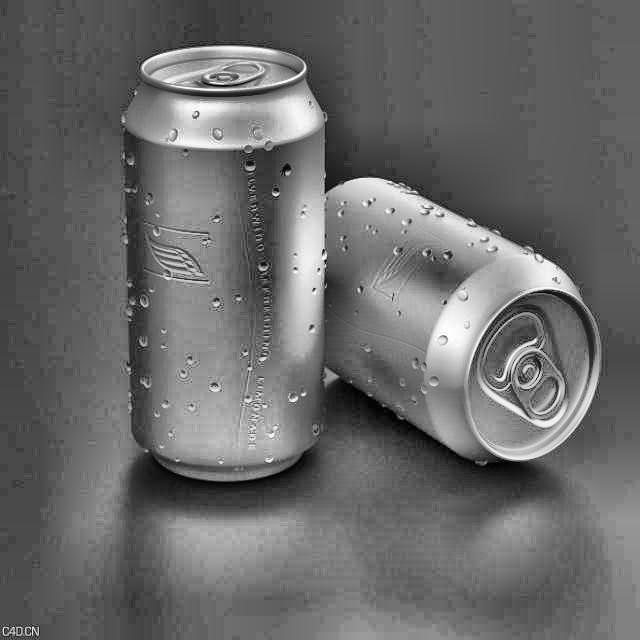can: (112, 31, 330, 513), (324, 174, 618, 494)
